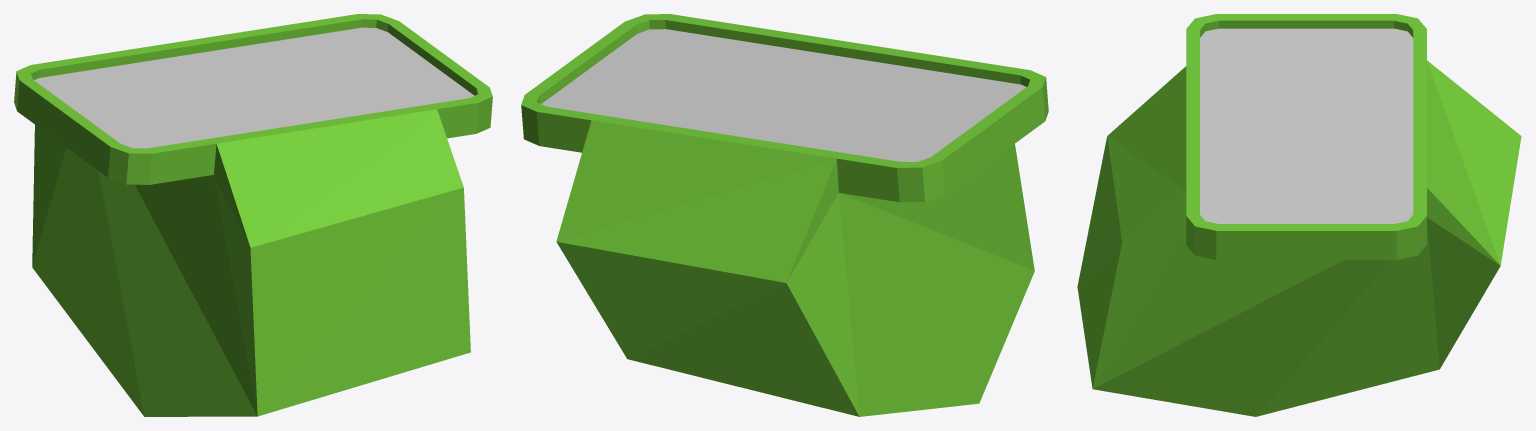
File: SM_shoulder_phone.fbx
3 views of the same model, side by side, from view 1: azimuth 30°, elevation 25°; view 2: azimuth 150°, elevation 25°; view 3: azimuth 270°, elevation 25° (orthographic). The views are drawn at different scales.
Visible parts, largest first — view 1: shoulder_phone; view 2: shoulder_phone; view 3: shoulder_phone.
Part boxes in pixels (x1,y1,x2,y2): shoulder_phone: [14, 14, 492, 416]; shoulder_phone: [521, 14, 1048, 416]; shoulder_phone: [1077, 14, 1521, 416].
Size of the model in its own units: 18.19 by 13.19 by 18.46.
